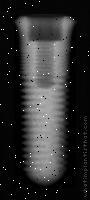Implant Direct: (8, 14, 76, 189)
